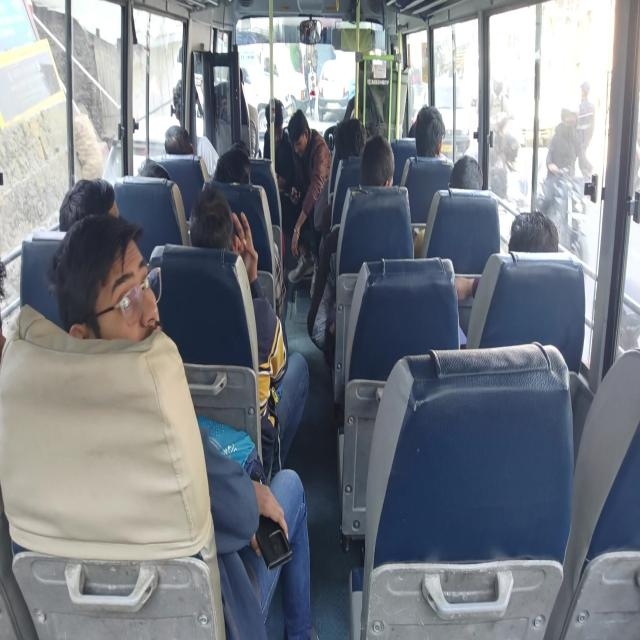person: (88, 245, 163, 352), (58, 173, 123, 238), (195, 195, 246, 273), (511, 216, 567, 270), (218, 152, 258, 196), (417, 101, 445, 163), (362, 147, 394, 199), (454, 158, 487, 198), (350, 50, 378, 96), (164, 125, 198, 158), (342, 118, 364, 164), (142, 155, 170, 191), (260, 102, 282, 140), (289, 115, 309, 156), (229, 67, 248, 96)
